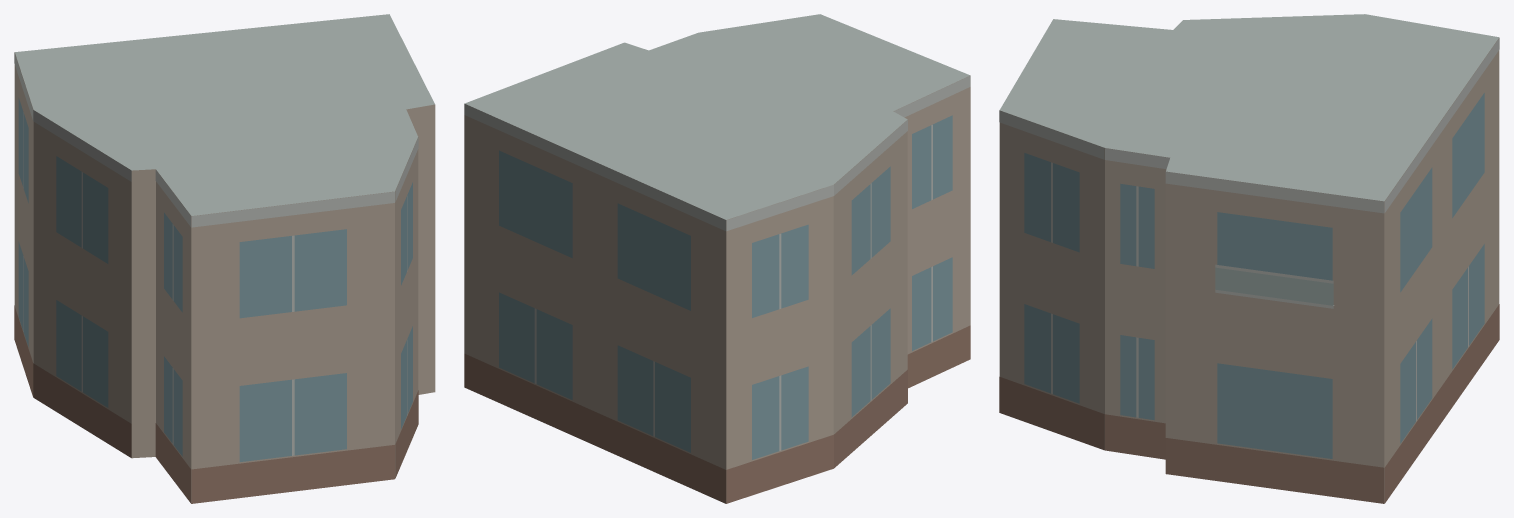
Rendered from survey-upis-32703303.glb.
3 views of the same model, side by side, from view 1: azimuth 30°, elevation 25°; view 2: azimuth 150°, elevation 25°; view 3: azimuth 270°, elevation 25° (orthographic). The views are drawn at different scales.
Visible parts, largest first — view 1: survey-upis-32703303.tmp; view 2: survey-upis-32703303.tmp; view 3: survey-upis-32703303.tmp.
Part boxes in pixels (x1=…): survey-upis-32703303.tmp: x1=14, y1=14, x2=435, y2=503; survey-upis-32703303.tmp: x1=464, y1=14, x2=970, y2=503; survey-upis-32703303.tmp: x1=999, y1=14, x2=1499, y2=503.
Size of the model in its own units: 8.11 by 6.1 by 9.15.
